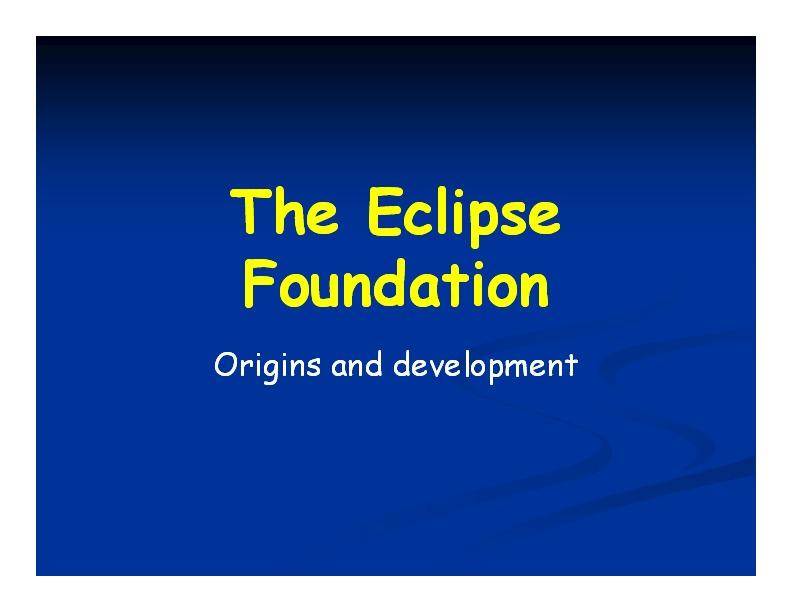subtitle: (210, 344, 589, 393)
title: (229, 166, 575, 332)
